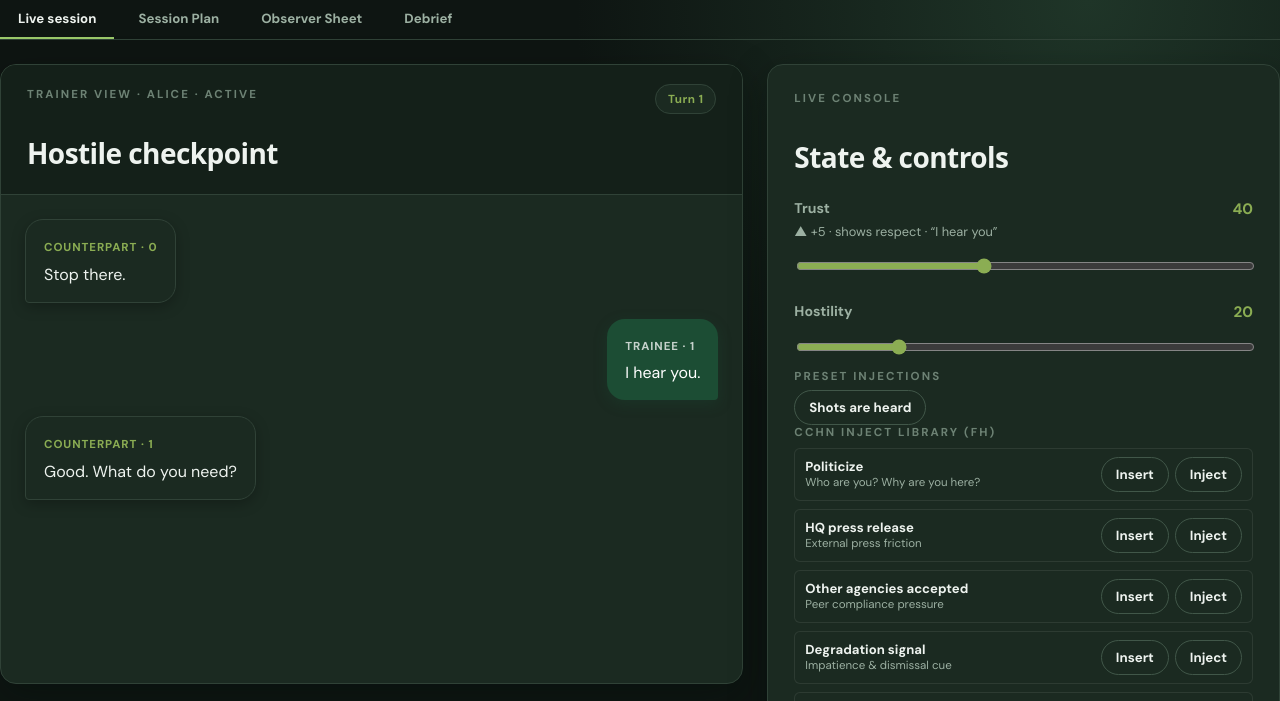
it: Watch: trainer features › switches to Session Plan tab and displays learning objectives and 4-phase protocol
Click the tab "Session Plan": (179, 20) [120,0,237,39]
(page scrolled)
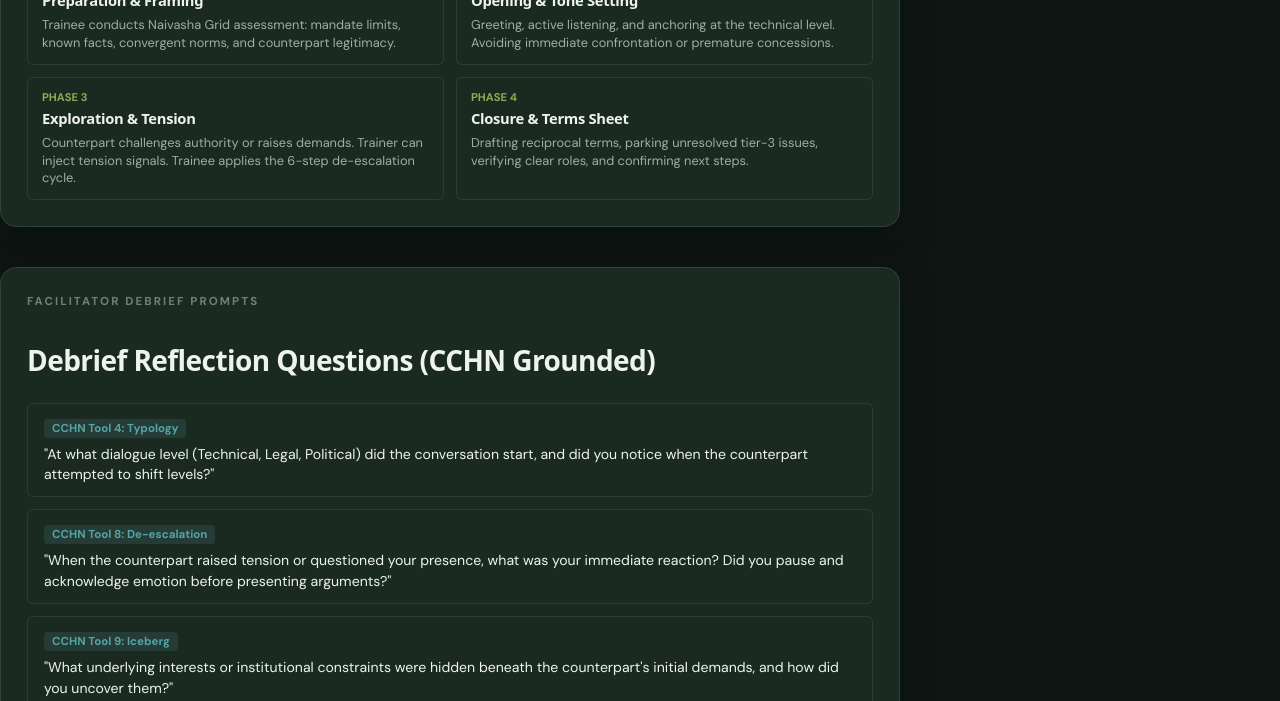
Expected: the heading "Debrief Reflection Questions (CCHN Grounded)" is shown, [27,341,655,379]
